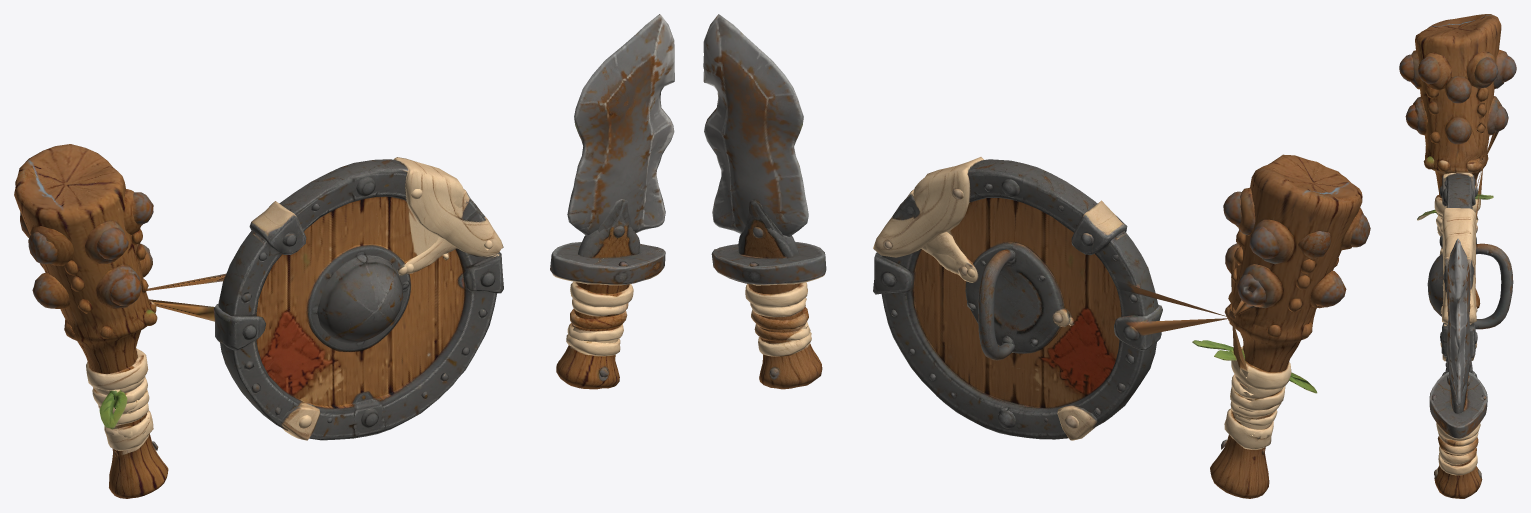
The model's file is Armas_Goblin_texture.glb.
The picture shows the model from 3 angles, left to right: view 1: azimuth 30°, elevation 25°; view 2: azimuth 150°, elevation 25°; view 3: azimuth 270°, elevation 25°; orthographic projection. The views are drawn at different scales.
Bounding box in the file's own units: 1 × 0.5222 × 0.1989.
1 material, 1 textured.
